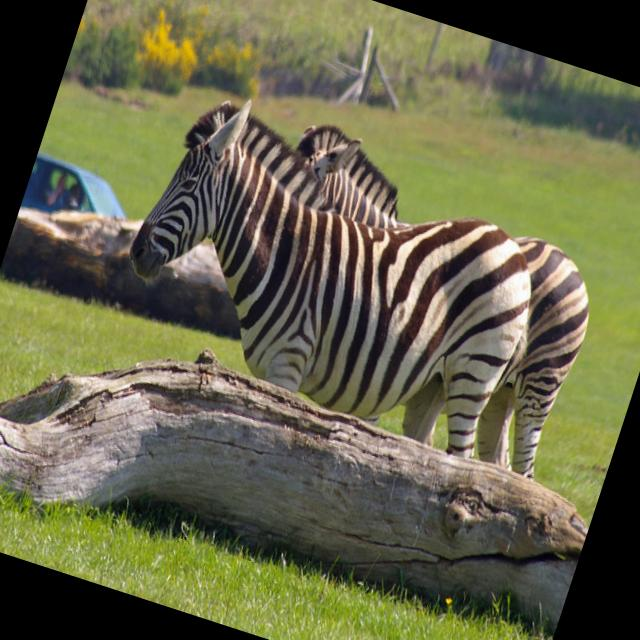Vehicle: (20, 150, 139, 240)
